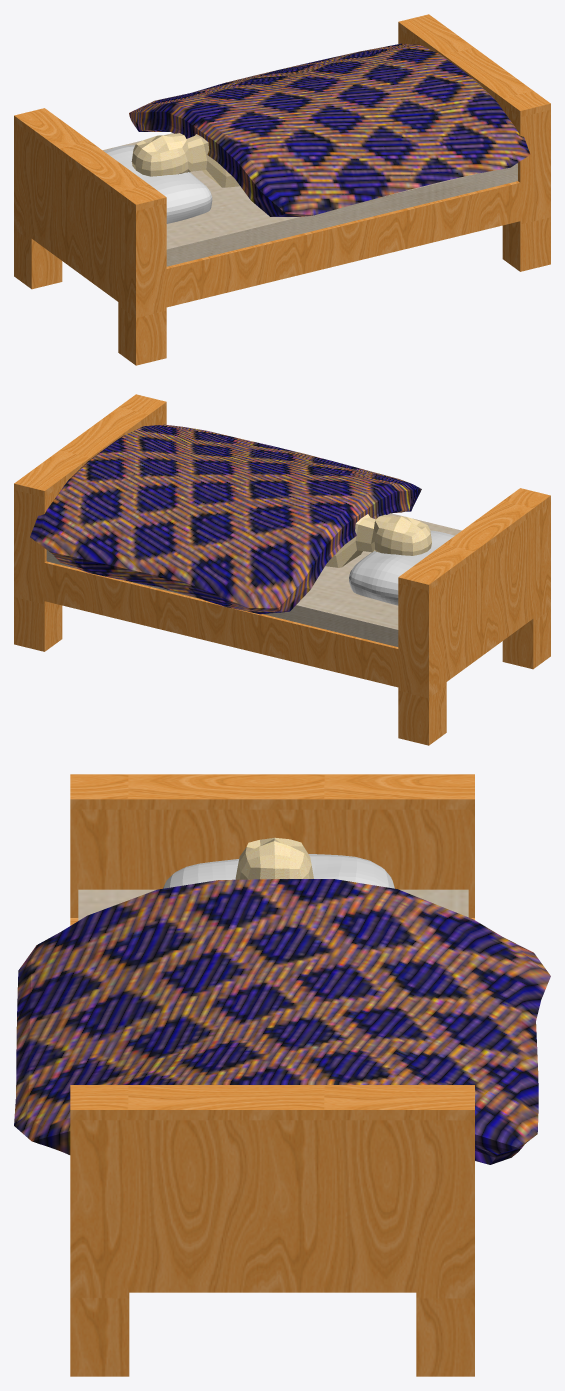
The model's file is littlejohnny.fbx.
The picture shows the model from 3 angles, top to bottom: view 1: azimuth 30°, elevation 25°; view 2: azimuth 150°, elevation 25°; view 3: azimuth 270°, elevation 25°; orthographic projection. The views are drawn at different scales.
Visible parts, largest first — view 1: bed1.001, Cube.003, Cube.001, Cube, Cube.002; view 2: bed1.001, Cube.003, Cube.001, Cube, Cube.002; view 3: bed1.001, Cube.003, Cube.002, Cube, Cube.001.
Boxes of the visible parts, bbox=[...] form: bed1.001: bbox=[14, 14, 550, 365]; Cube.003: bbox=[129, 43, 530, 216]; Cube.001: bbox=[103, 133, 517, 266]; Cube: bbox=[131, 133, 239, 187]; Cube.002: bbox=[104, 145, 212, 223]; bed1.001: bbox=[14, 394, 550, 745]; Cube.003: bbox=[30, 424, 421, 614]; Cube.001: bbox=[46, 513, 461, 646]; Cube: bbox=[325, 514, 431, 567]; Cube.002: bbox=[349, 530, 454, 605]; bed1.001: bbox=[70, 774, 474, 1376]; Cube.003: bbox=[14, 879, 550, 1164]; Cube.002: bbox=[163, 854, 394, 888]; Cube: bbox=[235, 837, 313, 879]; Cube.001: bbox=[78, 889, 468, 920].
Bounding box in the file's own units: 8.1 × 3.08 × 5.48.
